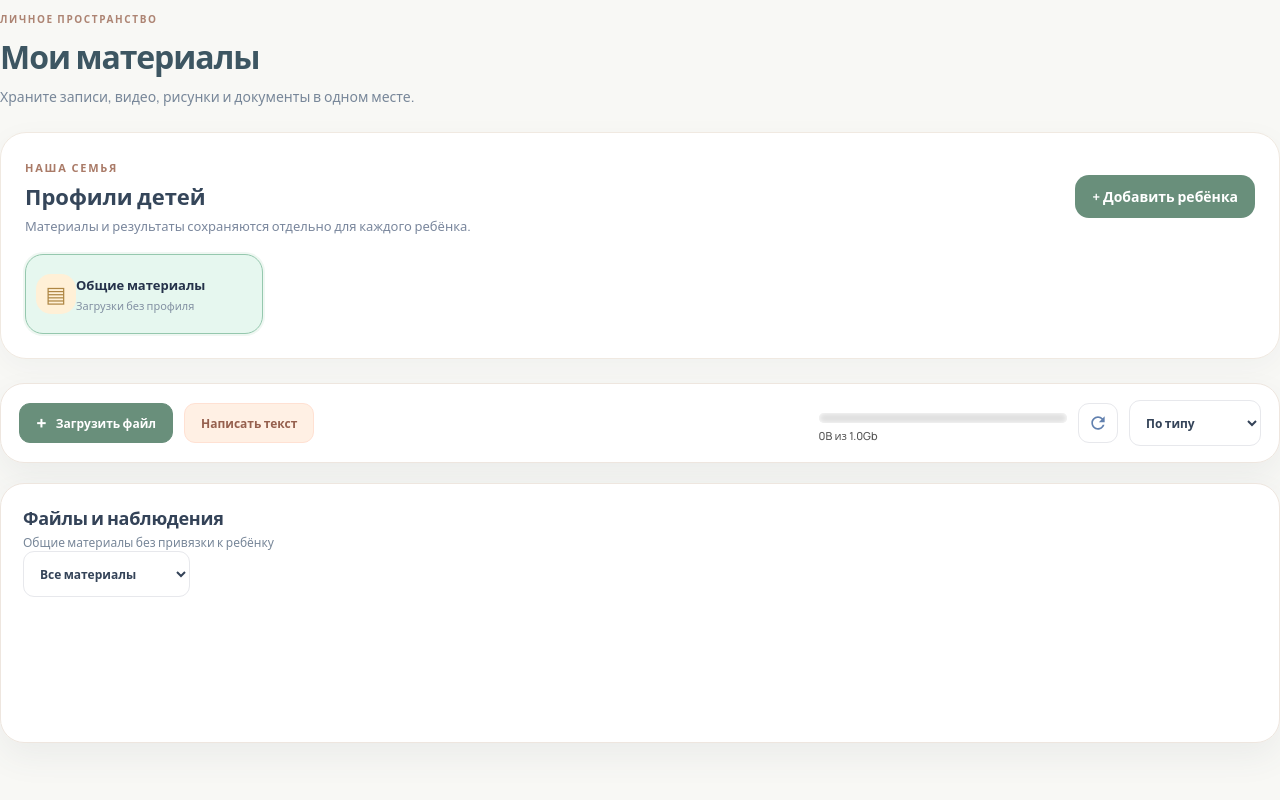
Test: parent uploads directly and saves a story without a tags dialog
Earlier steps of the test are not shown.
Click the button "Написать текст": (249, 423) x1=184 y1=403 x2=314 y2=443
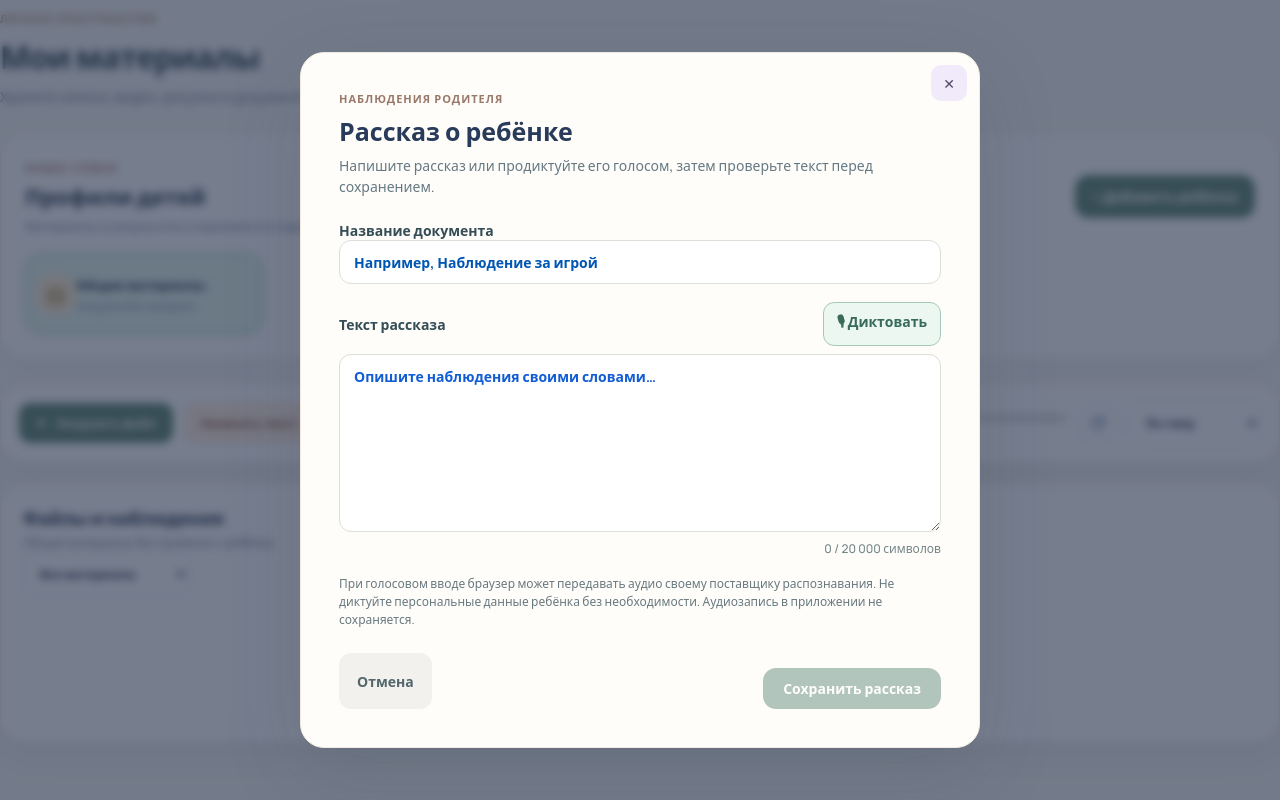
In the field labelled "Название документа": (640, 262) x1=339 y1=240 x2=941 y2=284, type "Рассказ"
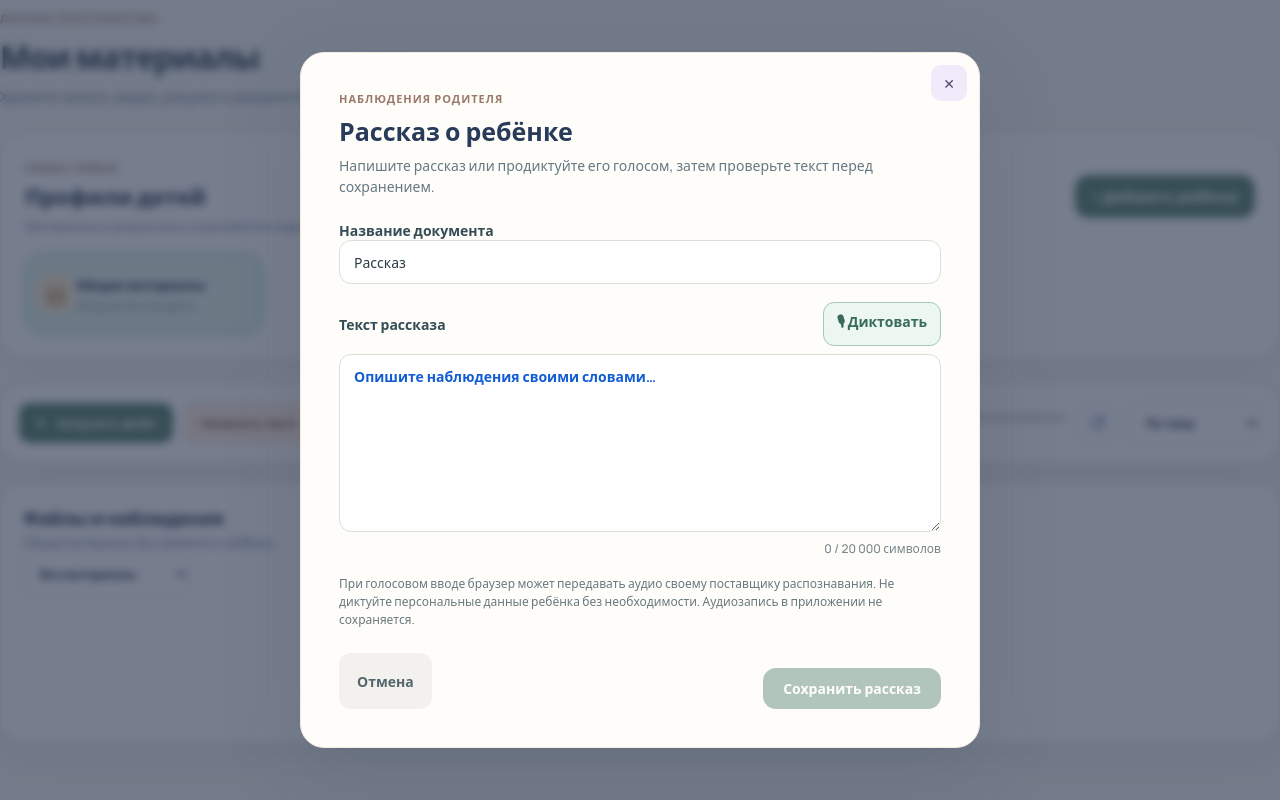
In the text box labelled "Текст рассказа": (640, 443) x1=339 y1=354 x2=941 y2=532, type "Наблюдение"
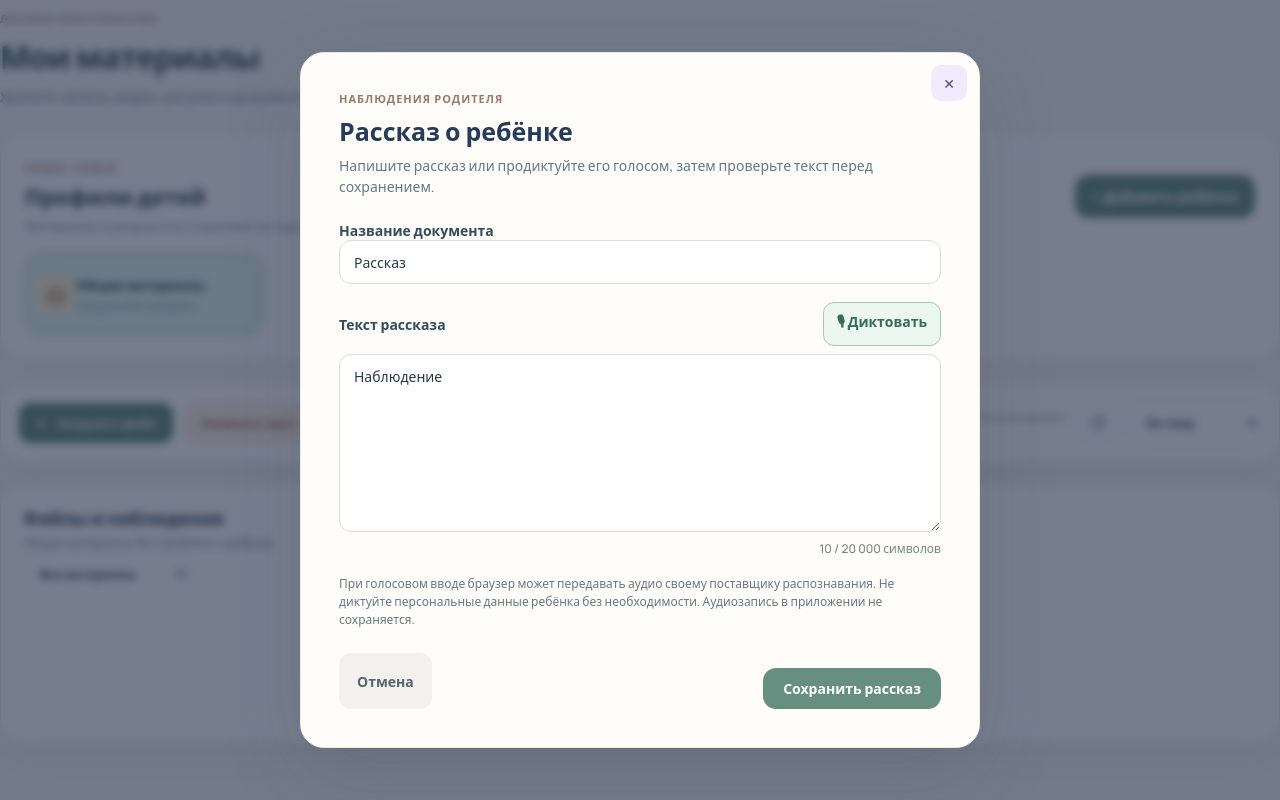
Click the button "Сохранить рассказ": (852, 688) x1=763 y1=668 x2=941 y2=709
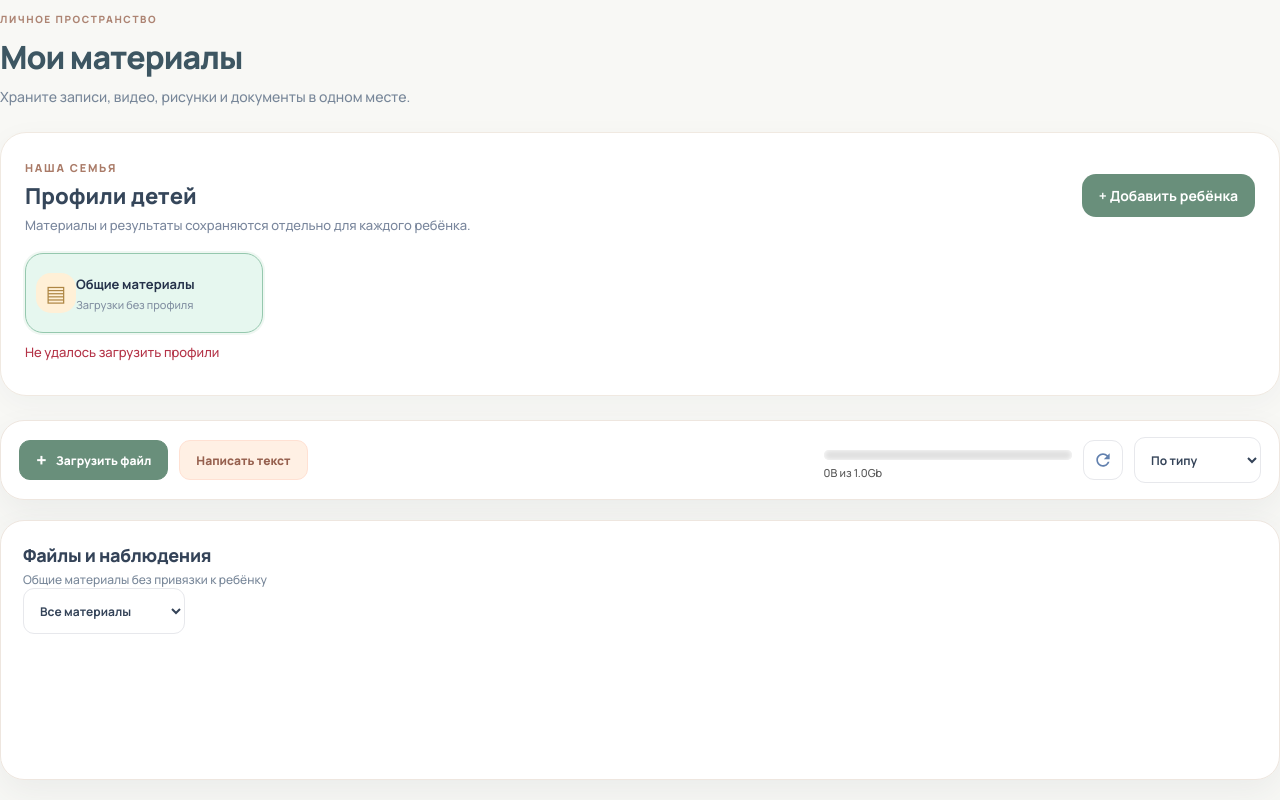
Expected: the dialog is gone
